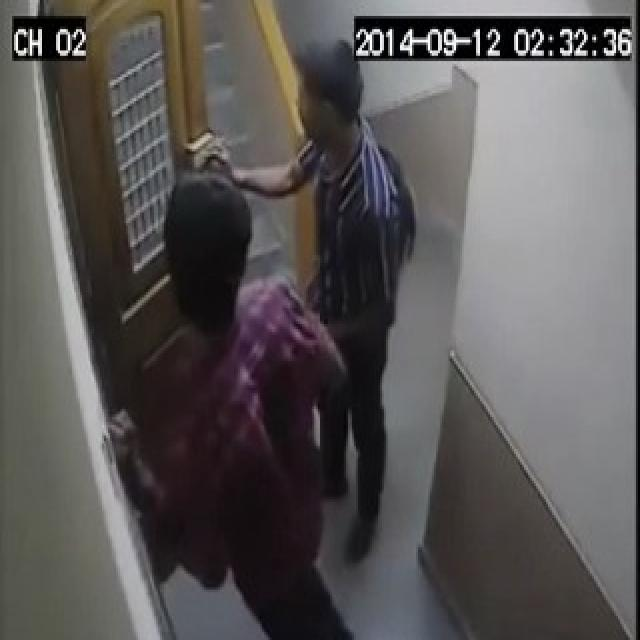thief: (132, 137, 330, 640), (288, 42, 422, 577)
